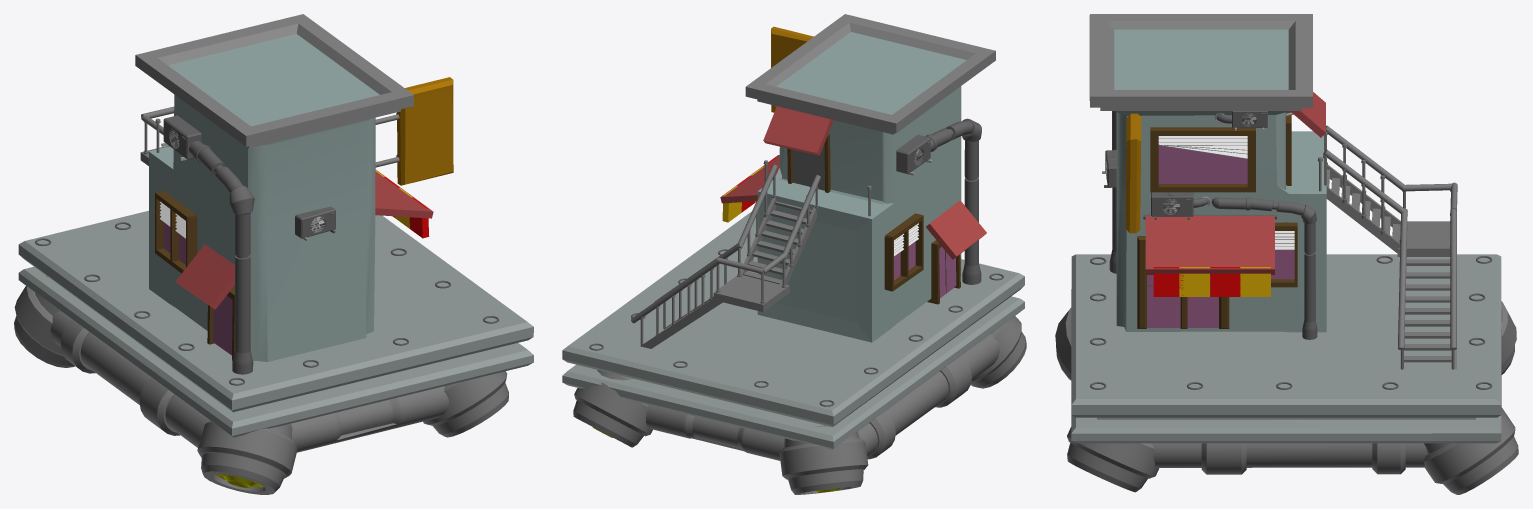
Rendered from shoplofi.fbx.
3 renders of one model, left to right at view 1: azimuth 30°, elevation 25°; view 2: azimuth 150°, elevation 25°; view 3: azimuth 270°, elevation 25°, orthographic. The views are drawn at different scales.
Parts seen in each view (by area): view 1: polySurface675, polySurface616, polySurface629, polySurface812, polySurface725, polySurface612, polySurface651, polySurface804, polySurface809, polySurface814, polySurface670, polySurface761 (+2 smaller); view 2: polySurface675, polySurface616, polySurface629, polySurface814, polySurface804, polySurface807, polySurface614, polySurface651, polySurface763, polySurface670, polySurface812, polySurface753 (+9 smaller); view 3: polySurface616, polySurface675, polySurface761, polySurface665, polySurface693, polySurface807, polySurface811, polySurface809, polySurface656, polySurface725, polySurface753, polySurface816 (+16 smaller).
Boxes of the visible parts, bbox=[...] form: polySurface675: bbox=[135, 14, 413, 361]; polySurface616: bbox=[18, 210, 533, 437]; polySurface629: bbox=[50, 311, 210, 447]; polySurface812: bbox=[197, 421, 297, 494]; polySurface725: bbox=[397, 77, 453, 185]; polySurface612: bbox=[291, 386, 448, 452]; polySurface651: bbox=[178, 137, 254, 374]; polySurface804: bbox=[155, 190, 234, 360]; polySurface809: bbox=[423, 371, 508, 437]; polySurface814: bbox=[14, 276, 74, 367]; polySurface670: bbox=[175, 244, 234, 309]; polySurface761: bbox=[375, 169, 433, 218]; polySurface675: bbox=[745, 14, 995, 342]; polySurface616: bbox=[562, 211, 1024, 449]; polySurface629: bbox=[857, 333, 1000, 459]; polySurface814: bbox=[779, 424, 868, 494]; polySurface804: bbox=[884, 213, 960, 304]; polySurface807: bbox=[573, 370, 652, 447]; polySurface614: bbox=[645, 405, 784, 460]; polySurface651: bbox=[914, 118, 981, 284]; polySurface763: bbox=[763, 106, 833, 155]; polySurface670: bbox=[926, 200, 986, 259]; polySurface812: bbox=[971, 316, 1026, 388]; polySurface753: bbox=[713, 275, 789, 311]; polySurface616: bbox=[1071, 254, 1501, 443]; polySurface675: bbox=[1089, 14, 1326, 332]; polySurface761: bbox=[1145, 215, 1274, 274]; polySurface665: bbox=[1152, 443, 1427, 474]; polySurface693: bbox=[1150, 127, 1255, 192]; polySurface807: bbox=[1423, 407, 1518, 494]; polySurface811: bbox=[1137, 236, 1229, 328]; polySurface809: bbox=[1067, 427, 1159, 492]; polySurface656: bbox=[1211, 197, 1317, 339]; polySurface725: bbox=[1125, 113, 1141, 233]; polySurface753: bbox=[1397, 221, 1450, 256]; polySurface816: bbox=[1271, 222, 1297, 287].
Size of the model in its own units: 27.26 by 30.18 by 34.2.
